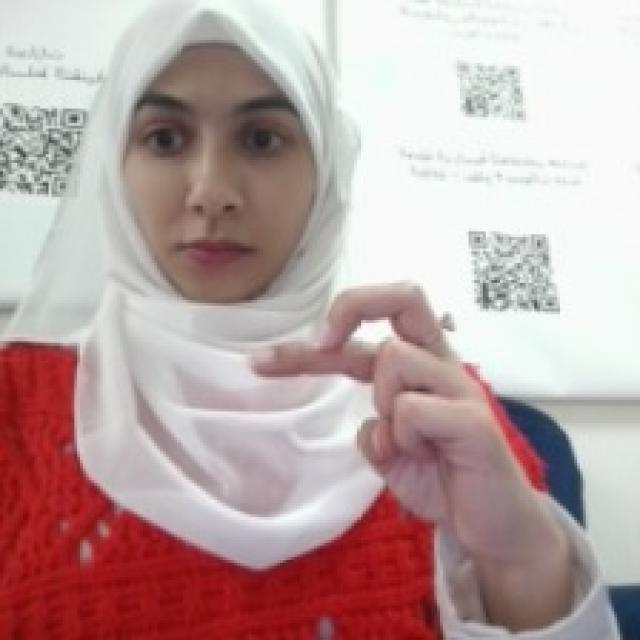sunday: (232, 268, 552, 528)
